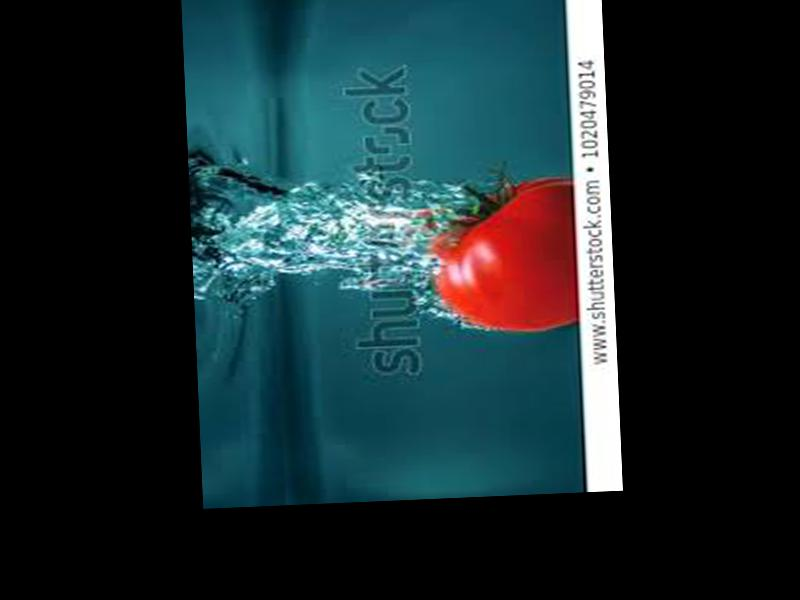Tomato: (429, 175, 580, 334)
